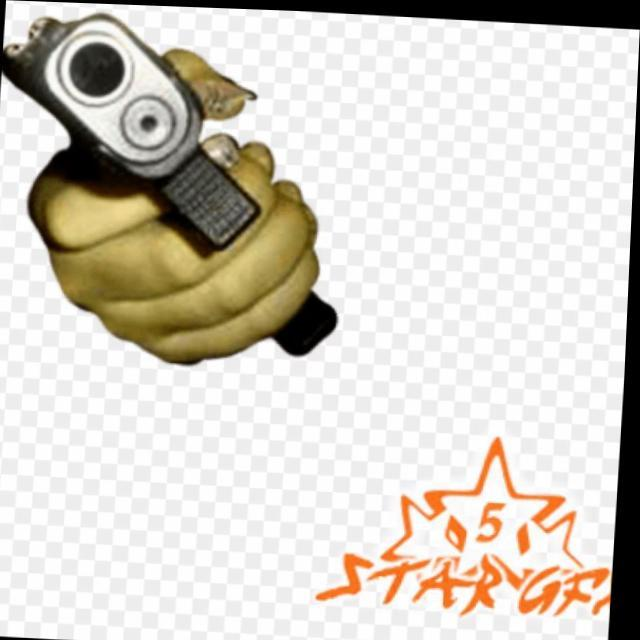weapon: (0, 0, 365, 370)
